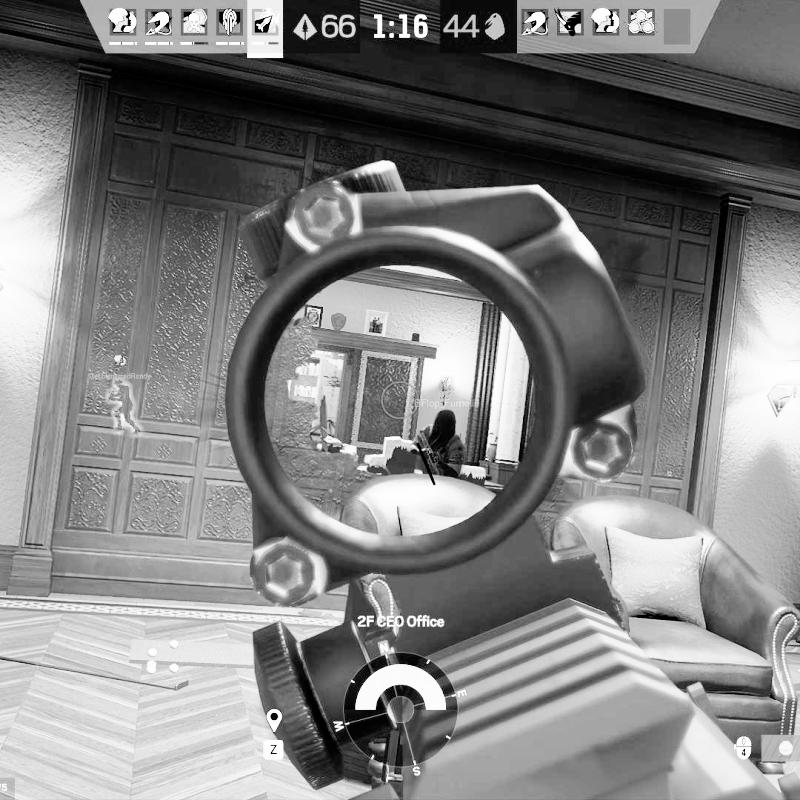Character: (408, 408, 469, 482)
Friend_label: (416, 371, 475, 409), (88, 351, 152, 384)
Head: (432, 410, 457, 441)
